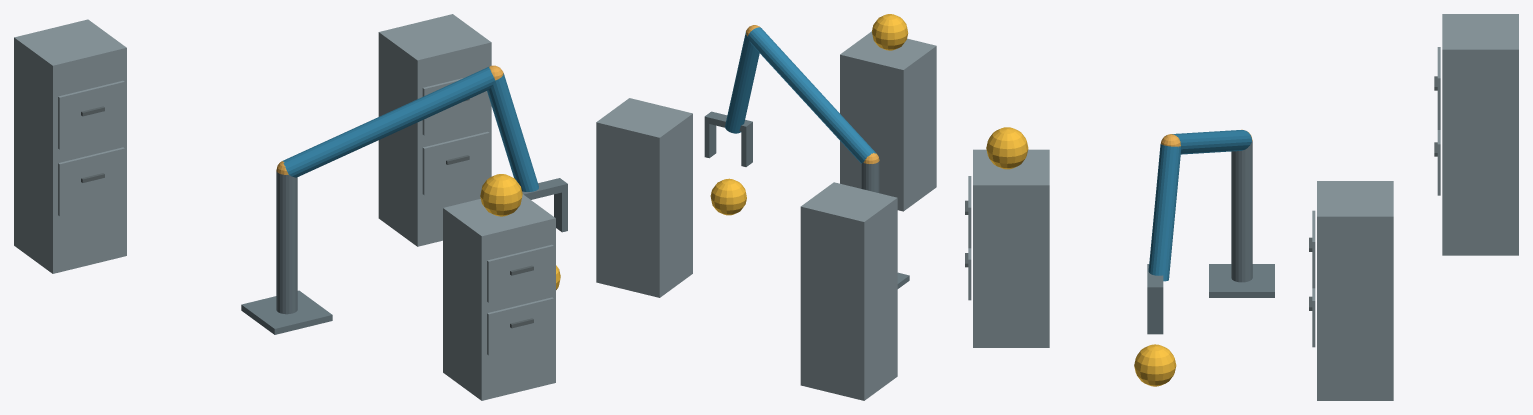
3 views of the same model, side by side, from view 1: azimuth 30°, elevation 25°; view 2: azimuth 150°, elevation 25°; view 3: azimuth 270°, elevation 25° (orthographic). The views are drawn at different scales.
Visible parts, largest first — view 1: cabinet_3 body, cabinet_1 body, cabinet_2 body, moving link 1, cabinet_3 drawer front.001, cabinet_3 drawer front, cabinet_2 drawer front, fixed post, cabinet_1 drawer front, cabinet_1 drawer front.001, moving link 2, pedestal (+4 smaller); view 2: cabinet_3 body, cabinet_2 body, cabinet_1 body, moving link 1, moving link 2, released ball_1, ball ball_2, fixed post, gripper finger 1, gripper finger -1, gripper bridge; view 3: cabinet_3 body, cabinet_2 body, cabinet_1 body, fixed post, moving link 2, pedestal, moving link 1, released ball_1, ball ball_2, gripper finger 1.
Part boxes in pixels (box(x1,y1,x2,y2)): cabinet_3 body: box(14, 19, 126, 273); cabinet_1 body: box(443, 194, 555, 400); cabinet_2 body: box(378, 14, 491, 246); moving link 1: box(283, 67, 495, 177); cabinet_3 drawer front.001: box(58, 80, 124, 149); cabinet_3 drawer front: box(58, 147, 124, 216); cabinet_2 drawer front: box(422, 131, 489, 195); fixed post: box(276, 171, 297, 314); cabinet_1 drawer front: box(487, 297, 553, 355); cabinet_1 drawer front.001: box(487, 244, 553, 302); moving link 2: box(487, 73, 538, 191); pedestal: box(241, 290, 332, 334); cabinet_3 body: box(800, 182, 897, 400); cabinet_2 body: box(596, 98, 692, 297); cabinet_1 body: box(840, 31, 936, 211); moving link 1: box(747, 27, 876, 163); moving link 2: box(725, 32, 759, 133); released ball_1: box(872, 14, 908, 50); ball ball_2: box(710, 178, 746, 215); fixed post: box(861, 161, 879, 193); gripper finger 1: box(704, 123, 716, 158); gripper finger -1: box(741, 128, 752, 166); gripper bridge: box(704, 111, 752, 132); cabinet_3 body: box(1442, 14, 1518, 255); cabinet_2 body: box(1317, 181, 1393, 400); cabinet_1 body: box(973, 149, 1049, 347); fixed post: box(1231, 140, 1252, 282); moving link 2: box(1148, 144, 1181, 281); pedestal: box(1209, 264, 1274, 297); moving link 1: box(1172, 130, 1251, 154); released ball_1: box(986, 127, 1028, 169); ball ball_2: box(1134, 344, 1176, 386); gripper finger 1: box(1147, 294, 1163, 334).
Size of the model in its own units: 1.62 by 0.966 by 2.1.
